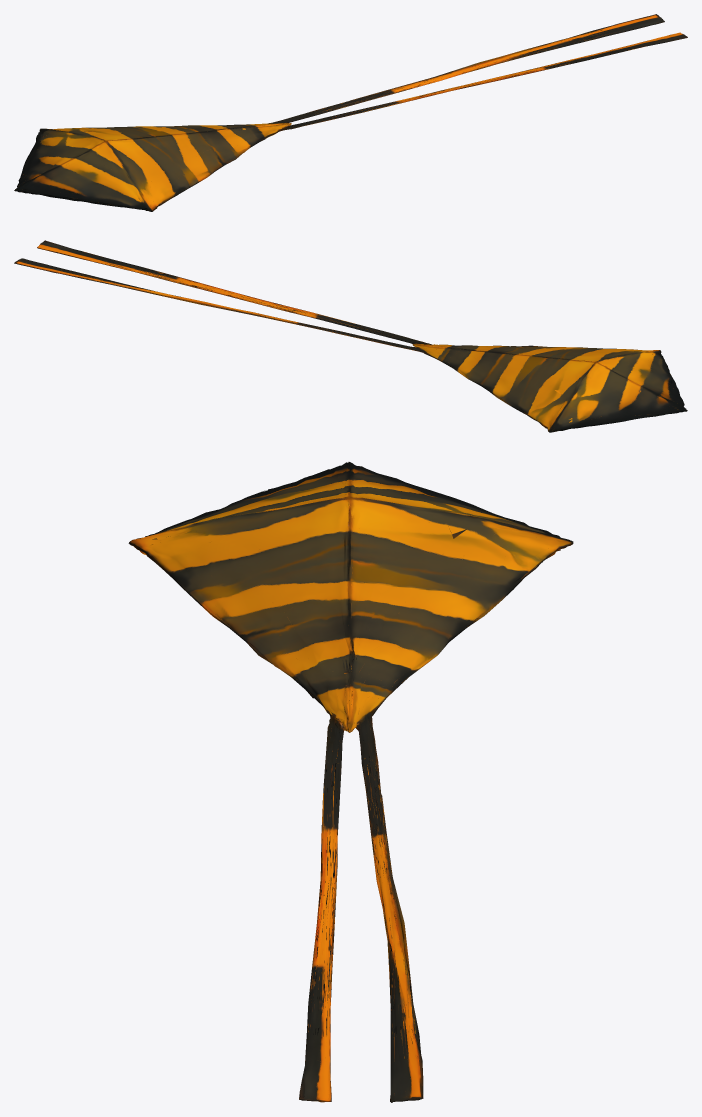
File: diamond_hazard.glb
3 renders of one model, top to bottom at view 1: azimuth 30°, elevation 25°; view 2: azimuth 150°, elevation 25°; view 3: azimuth 270°, elevation 25°, orthographic. The views are drawn at different scales.
Visible parts, largest first — view 1: geometry_0; view 2: geometry_0; view 3: geometry_0.
Boxes of the visible parts, box(x1,y1,x2,y2) form: geometry_0: box(14, 14, 687, 211); geometry_0: box(14, 240, 687, 432); geometry_0: box(128, 462, 573, 1102).
Bounding box in the file's own units: 0.9517 × 0.0747 × 0.2793.
1 material, 1 textured.
